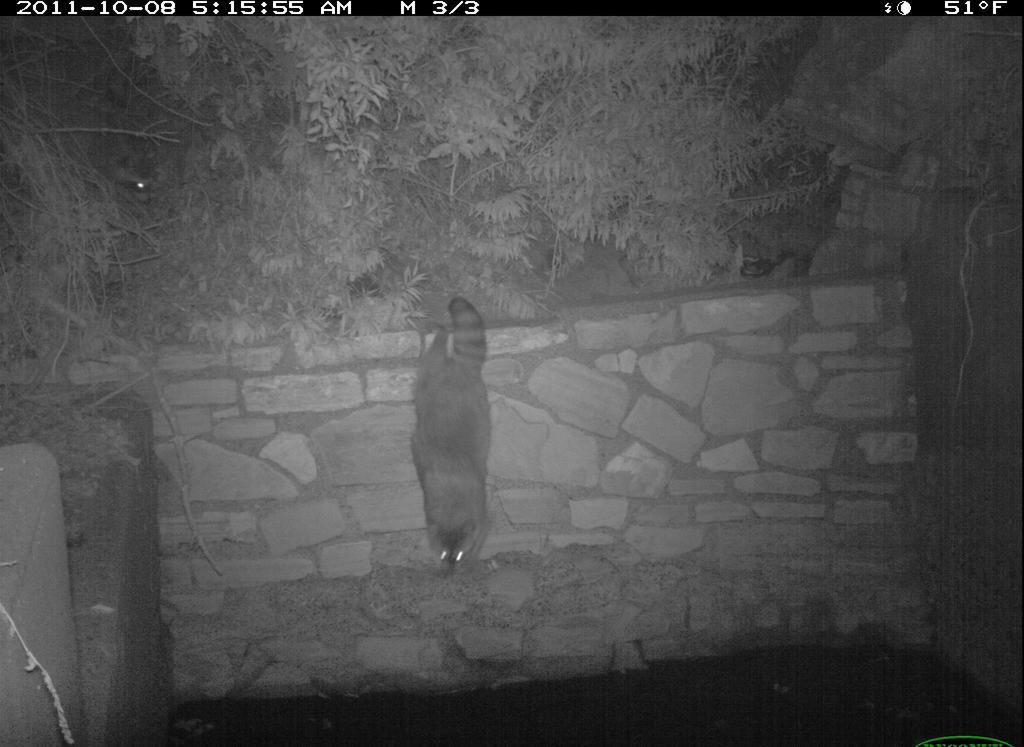raccoon: (408, 285, 509, 575)
